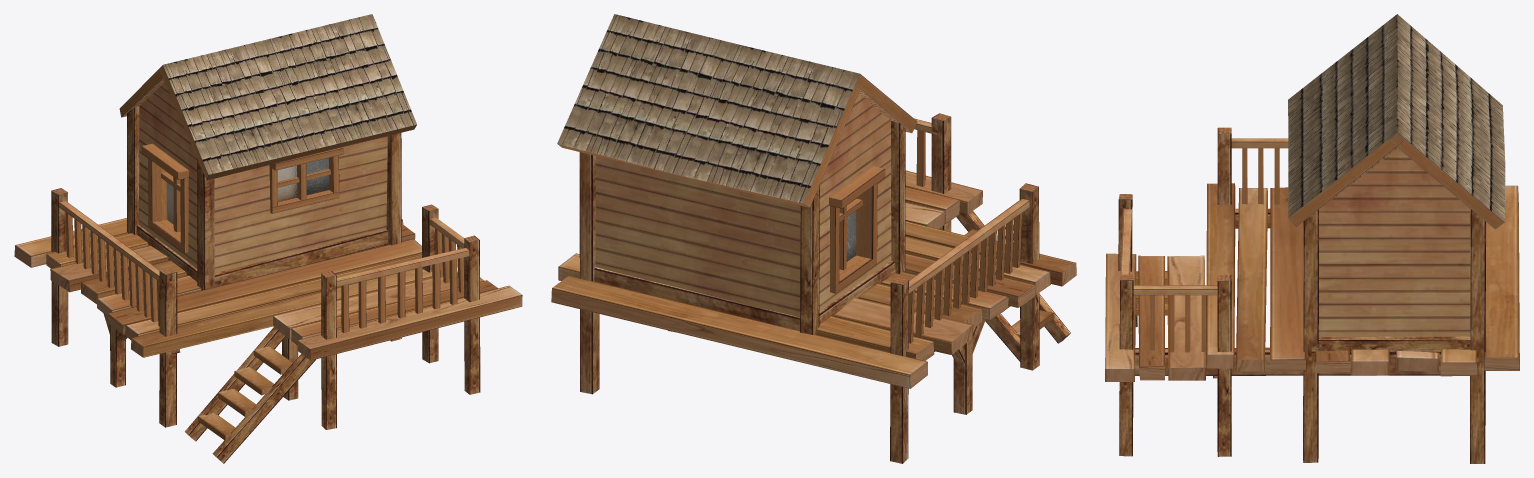
Rendered from home.glb.
The picture shows the model from 3 angles, left to right: view 1: azimuth 30°, elevation 25°; view 2: azimuth 150°, elevation 25°; view 3: azimuth 270°, elevation 25°; orthographic projection. The views are drawn at different scales.
Parts seen in each view (by area): view 1: Object_2; view 2: Object_2; view 3: Object_2.
Boxes of the visible parts, box(x1,y1,x2,y2) form: Object_2: box(14, 14, 522, 463); Object_2: box(551, 14, 1076, 463); Object_2: box(1105, 14, 1519, 463).
Bounding box in the file's own units: 4.89 × 4.18 × 4.55.
Materials: 1 (1 with a texture image).
